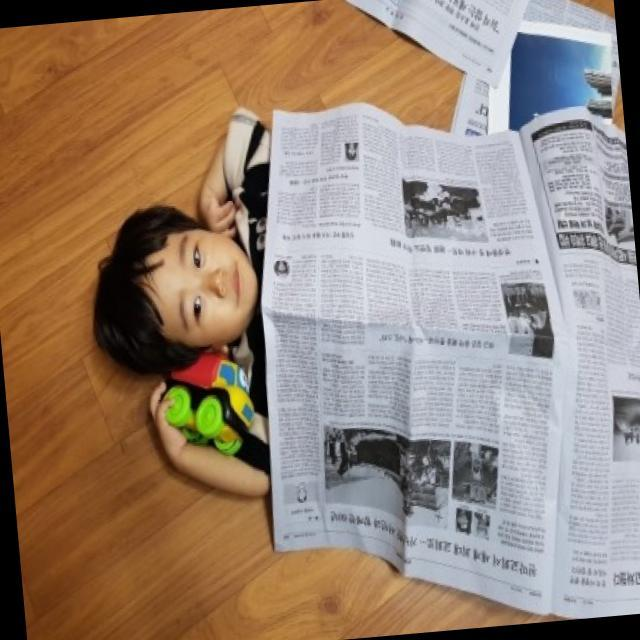reuseable_paper: (239, 91, 640, 640)
